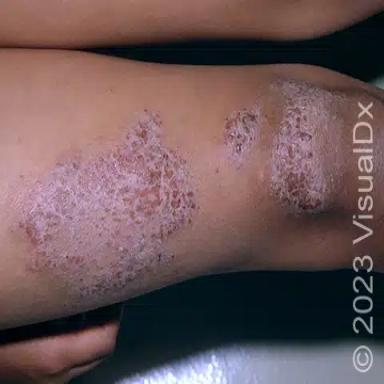Psoriasis: (16, 113, 197, 307), (265, 77, 346, 212), (223, 102, 262, 168)
